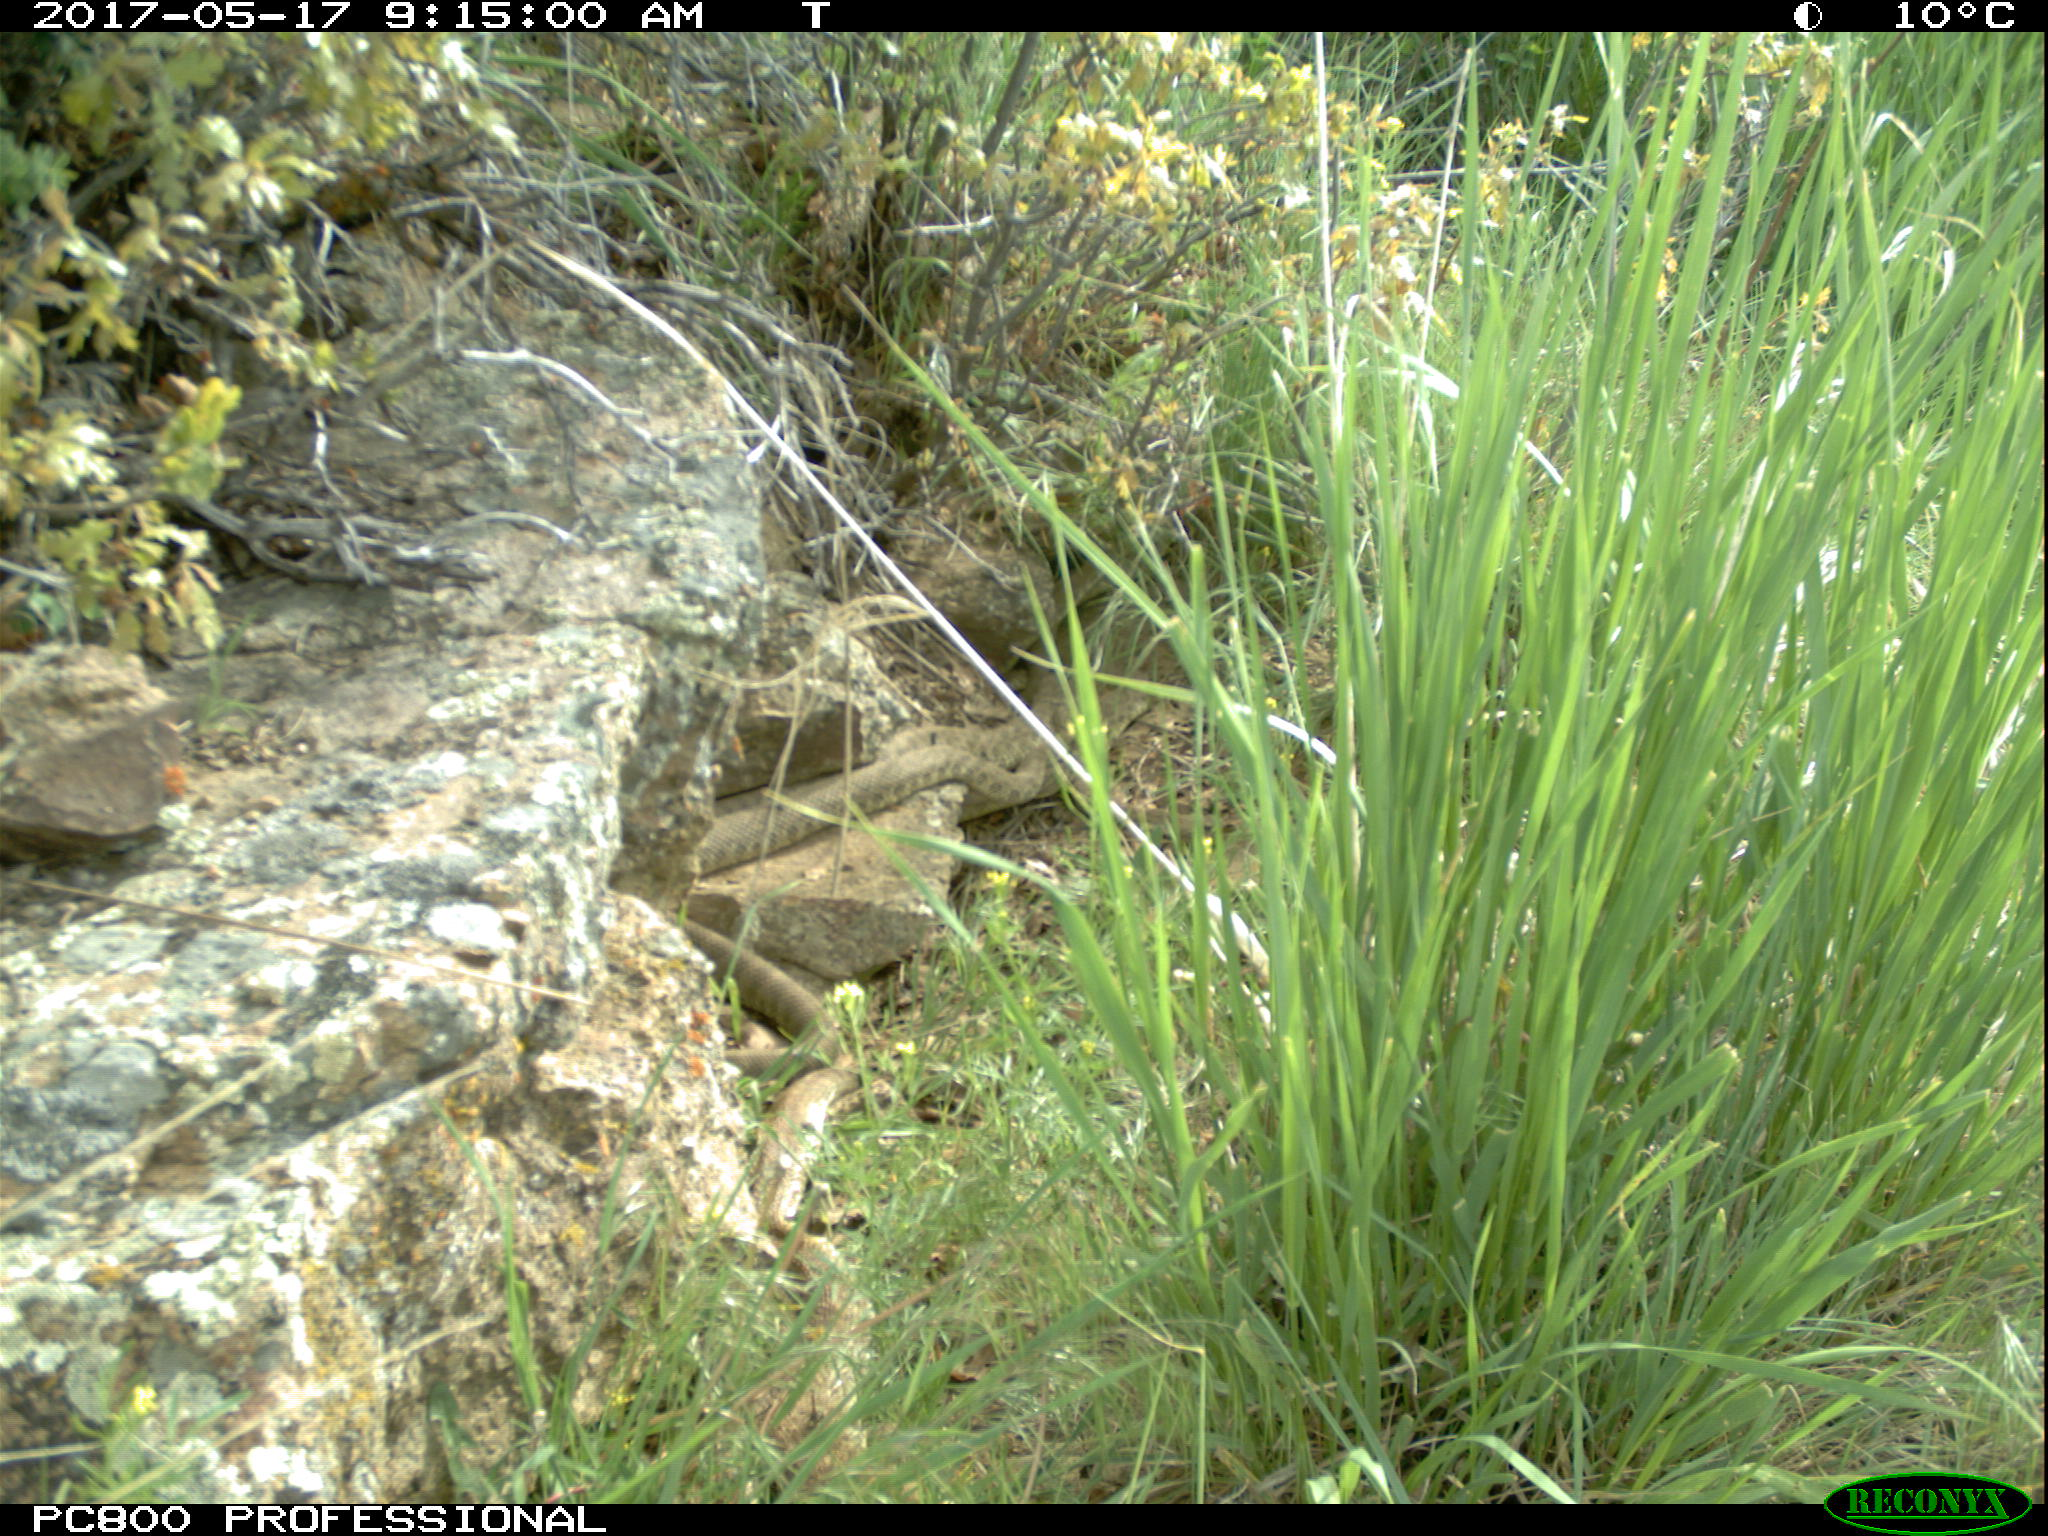snake: (687, 716, 1047, 866), (751, 1044, 864, 1455), (684, 920, 847, 1065)
